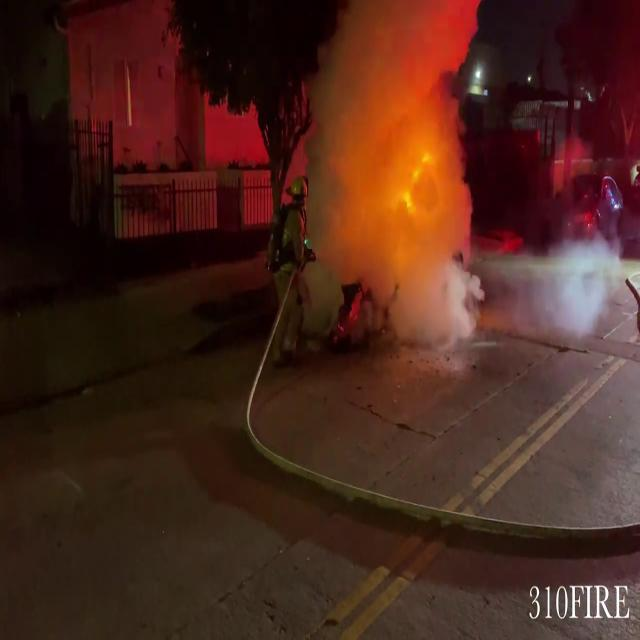Smoke: (302, 0, 488, 330)
